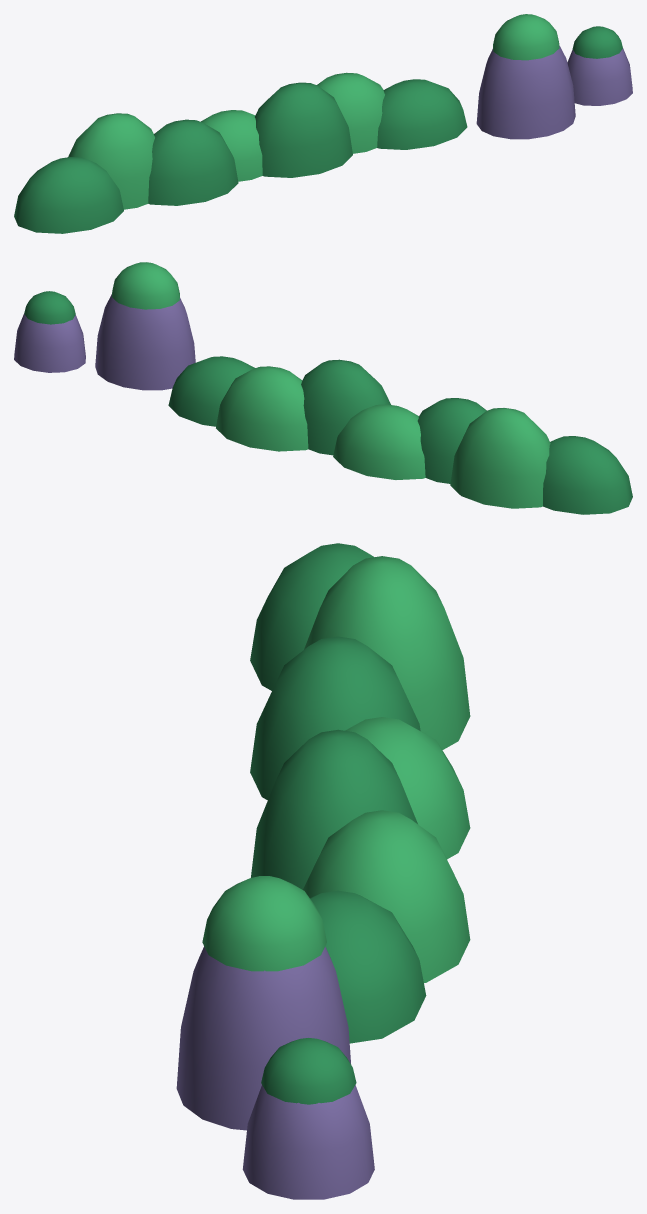
File: mountains.glb
The picture shows the model from 3 angles, top to bottom: view 1: azimuth 30°, elevation 25°; view 2: azimuth 150°, elevation 25°; view 3: azimuth 270°, elevation 25°; orthographic projection. The views are drawn at different scales.
Visible parts, largest first — view 1: Mountains; view 2: Mountains; view 3: Mountains.
Part boxes in pixels (left/top/right/bottom): Mountains: left=14, top=14, right=632, bottom=233; Mountains: left=14, top=262, right=632, bottom=514; Mountains: left=176, top=543, right=470, bottom=1199.
Size of the model in its own units: 190 by 31 by 40.
